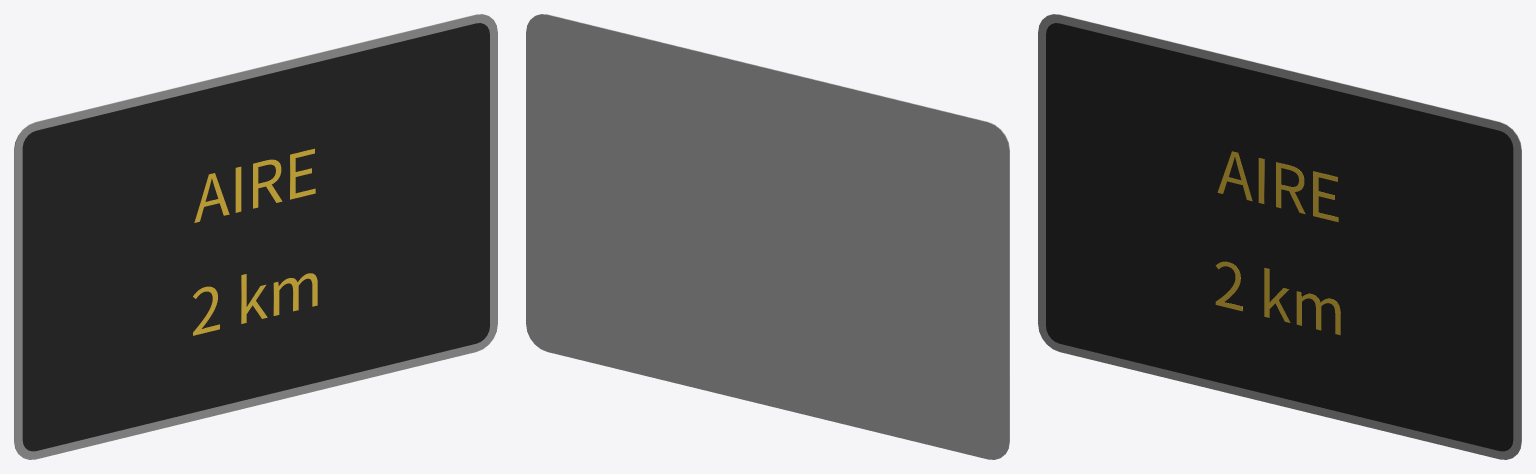
3 renders of one model, left to right at view 1: azimuth 30°, elevation 25°; view 2: azimuth 150°, elevation 25°; view 3: azimuth 330°, elevation 25°, orthographic.
Parts seen in each view (by area): view 1: X2a_r01, X2a_r00, X2a_txt02, X2a_txt03, X2a_dos; view 2: X2a_dos, X2a_r00; view 3: X2a_r01, X2a_r00, X2a_txt02, X2a_txt03, X2a_dos.
Boxes of the visible parts, x1=… form: X2a_r01: x1=22, y1=23, x2=489, y2=451; X2a_r00: x1=14, y1=14, x2=497, y2=459; X2a_txt02: x1=194, y1=148, x2=315, y2=222; X2a_txt03: x1=193, y1=273, x2=317, y2=335; X2a_dos: x1=14, y1=14, x2=487, y2=452; X2a_dos: x1=526, y1=14, x2=1009, y2=459; X2a_r00: x1=542, y1=14, x2=1009, y2=448; X2a_r01: x1=1046, y1=23, x2=1513, y2=451; X2a_r00: x1=1038, y1=14, x2=1521, y2=459; X2a_txt02: x1=1217, y1=151, x2=1338, y2=222; X2a_txt03: x1=1215, y1=261, x2=1340, y2=335; X2a_dos: x1=1048, y1=14, x2=1521, y2=452.
Size of the model in its own units: 0.9 by 0.6 by 0.0029.
